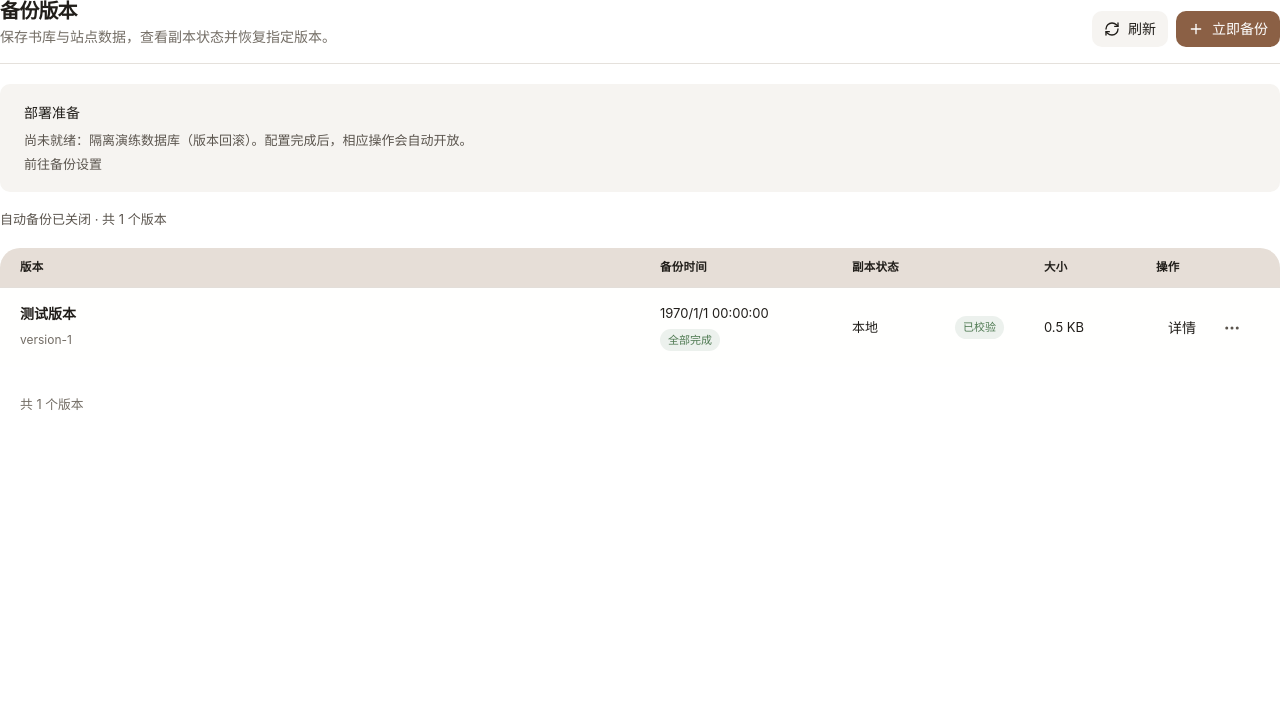
备份后台 › 版本详情只提供预检入口，缺少演练库时不能跳过预检直接恢复
Expected: the text "测试版本" is shown, [20,304,76,324]
Click the button "详情". click: (1182, 328)
box: [1156,312,1208,344]
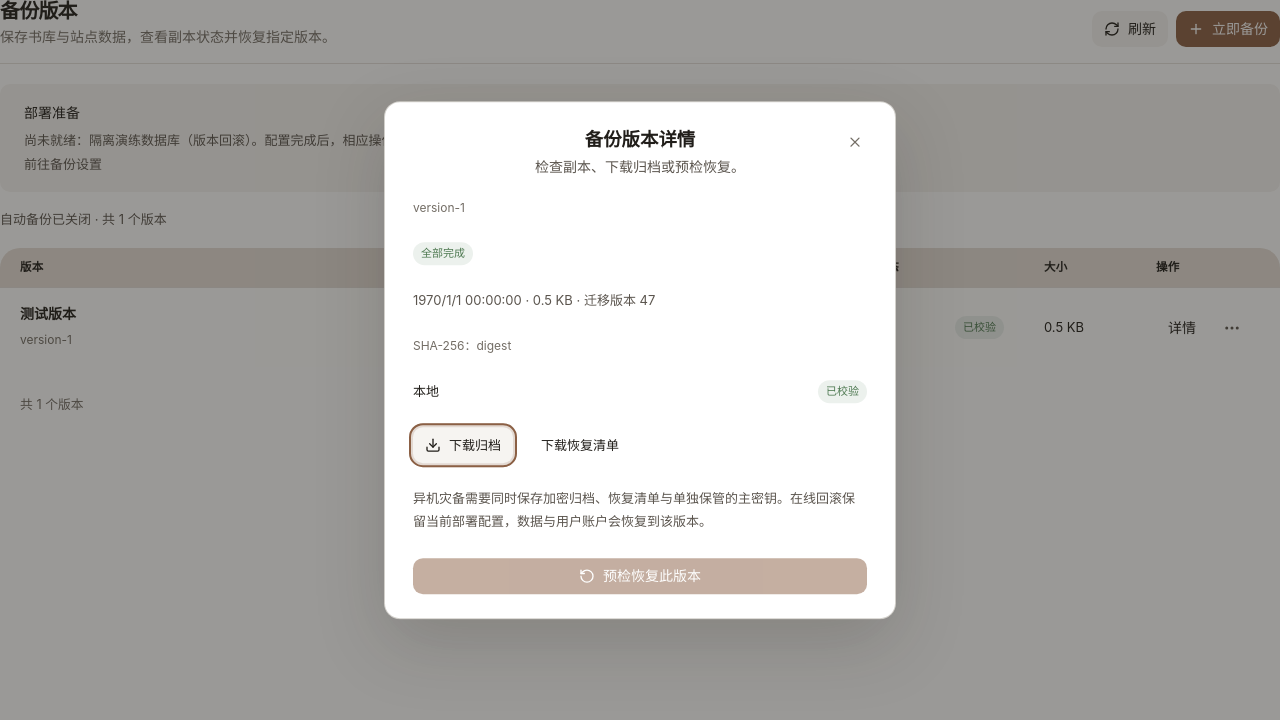
Result: the button "预检恢复此版本" is disabled at [413,558,867,594]
